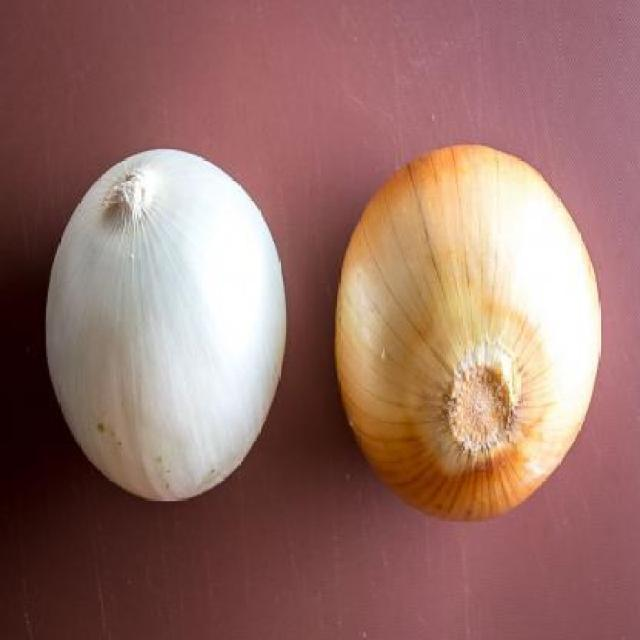Onion: (337, 145, 603, 521), (46, 149, 286, 502)
